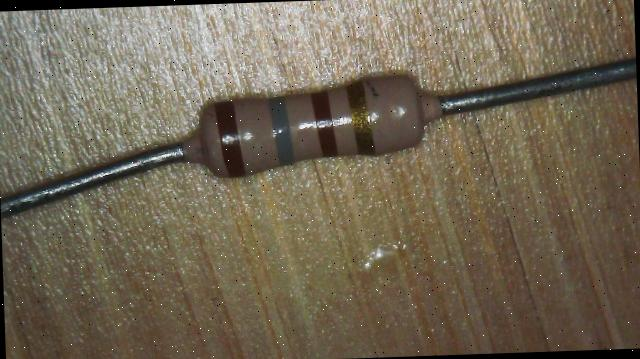brown: (214, 94, 240, 182), (310, 84, 338, 154)
gold: (348, 80, 374, 156)
grey: (270, 96, 294, 168)
resistor: (169, 41, 452, 205)
